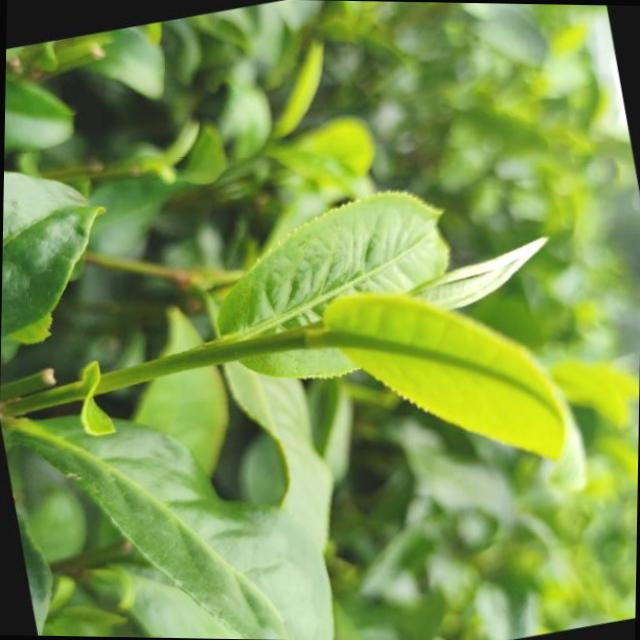Stem: (228, 326, 303, 360)
